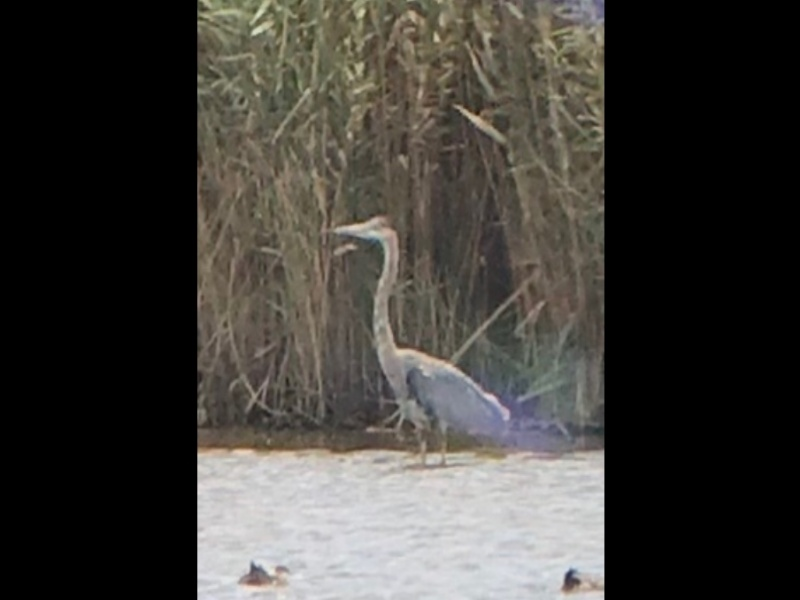heron: (332, 215, 510, 437)
